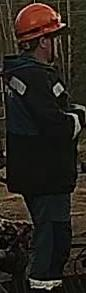helmet: (13, 2, 66, 42)
vest: (3, 58, 78, 194)
